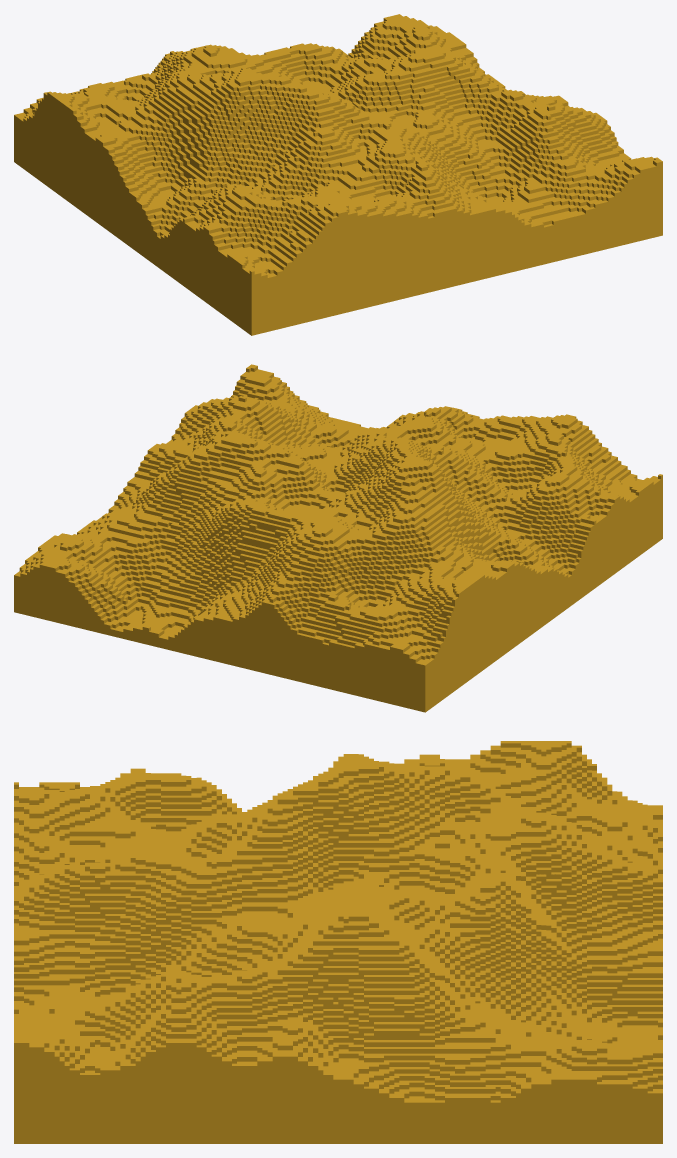
Rendered from mountains.fbx.
3 views of the same model, one above another, from view 1: azimuth 30°, elevation 25°; view 2: azimuth 150°, elevation 25°; view 3: azimuth 270°, elevation 25° (orthographic). The views are drawn at different scales.
Visible parts, largest first — view 1: Terrain; view 2: Terrain; view 3: Terrain.
Part boxes in pixels (left/top/right/bottom): Terrain: left=14, top=14, right=662, bottom=335; Terrain: left=14, top=364, right=662, bottom=712; Terrain: left=14, top=741, right=662, bottom=1143.
Bounding box in the file's own units: 128 × 41 × 128.
